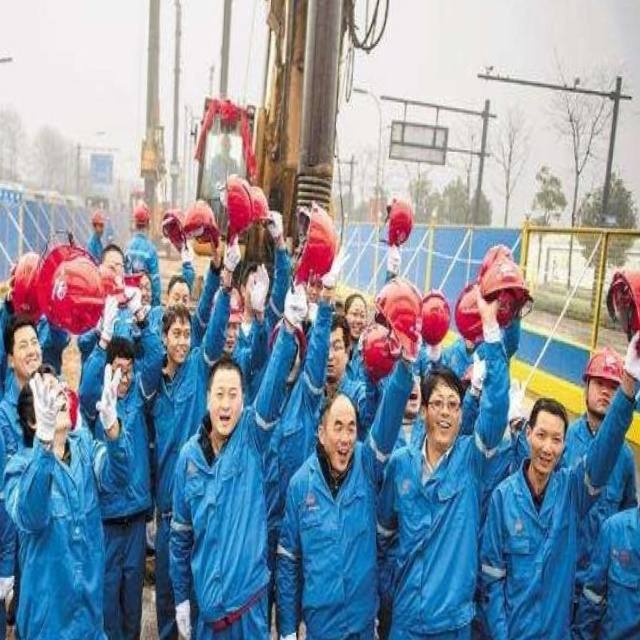Sin_Casco_Mascarrilla: (315, 388, 362, 472), (420, 363, 463, 447), (204, 360, 243, 437)
